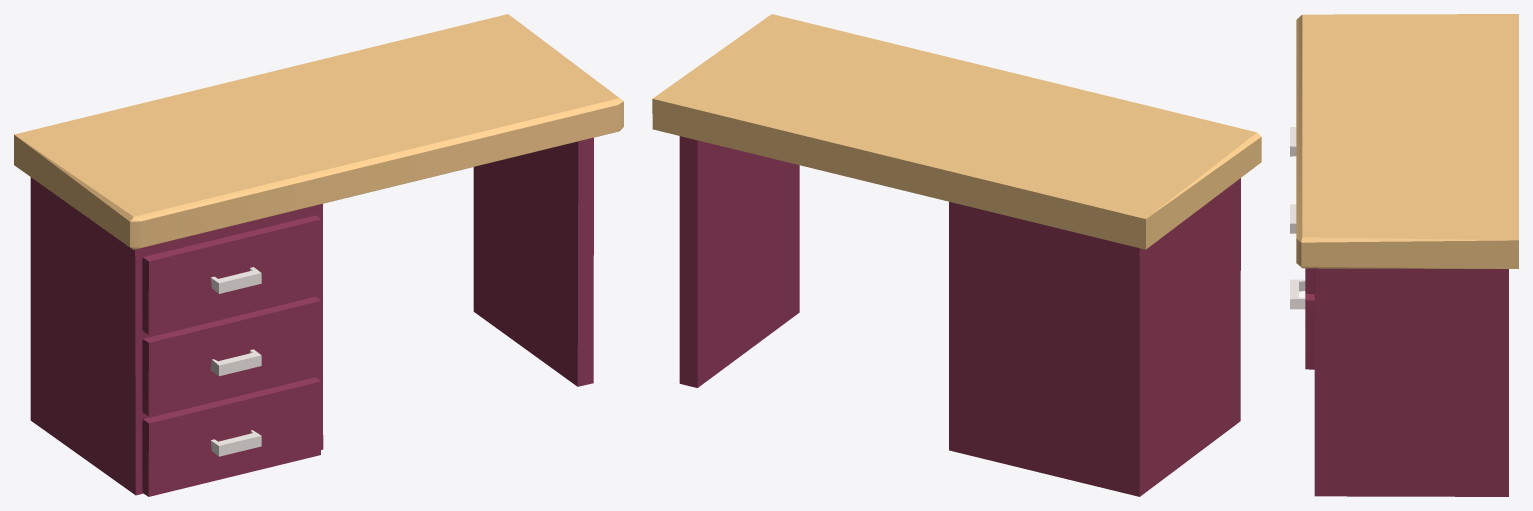
Rendered from 1_table.fbx.
3 views of the same model, side by side, from view 1: azimuth 30°, elevation 25°; view 2: azimuth 150°, elevation 25°; view 3: azimuth 270°, elevation 25° (orthographic). The views are drawn at different scales.
Parts seen in each view (by area): view 1: 1 table; view 2: 1 table; view 3: 1 table.
Boxes of the visible parts, x1,y1,x2,y2 form: 1 table: [14, 14, 623, 496]; 1 table: [652, 14, 1261, 496]; 1 table: [1290, 14, 1518, 496].
Bounding box in the file's own units: 79.02 × 43.74 × 33.77.
